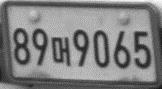0: (92, 29, 109, 67)
5: (133, 30, 151, 68)
6: (112, 30, 130, 68)
8: (12, 27, 30, 65)
9: (31, 28, 47, 65), (73, 29, 89, 66)
머: (51, 36, 70, 66)
